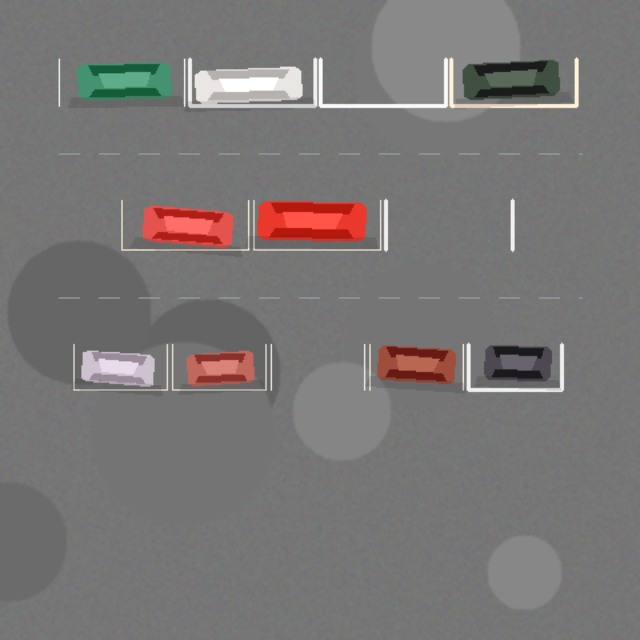space-empty: (385, 200, 512, 249), (320, 59, 445, 105), (271, 344, 364, 389)
space-occupied: (121, 200, 248, 249), (253, 200, 380, 249), (189, 59, 315, 105), (59, 59, 184, 105), (451, 59, 576, 105), (73, 344, 167, 389), (369, 344, 463, 389), (172, 344, 265, 389), (468, 344, 561, 389)
